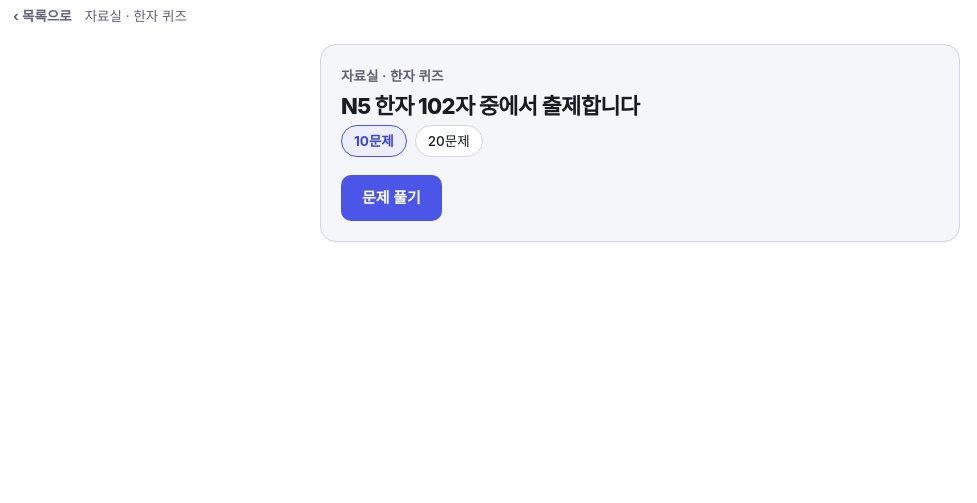
Test: 꼬리 창을 뽑아도 퀴즈가 열린다 (A-H3) › 꼬리 창을 뽑았어도 실제로 4지선다 문항이 만들어진다
Step 1. Click the button "문제 풀기" → (391, 198), box top-left (341, 176), bottom-right (442, 222)
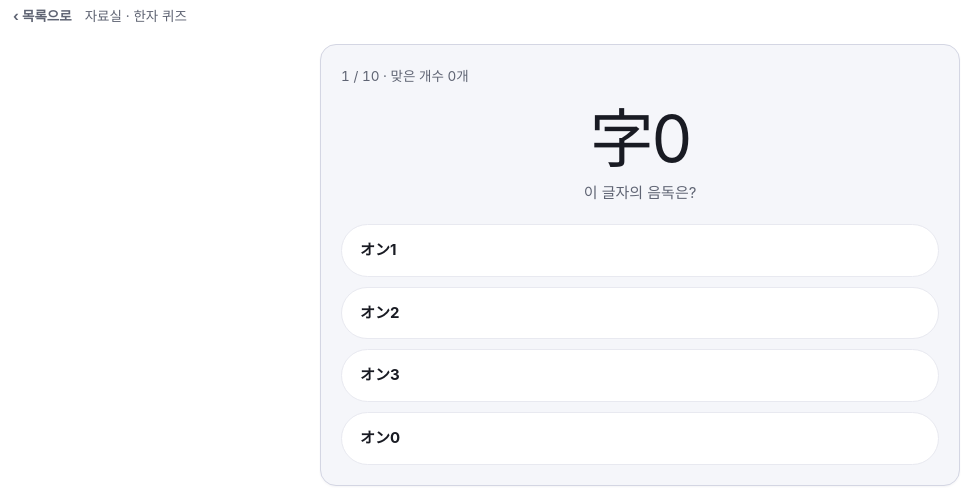
Expected: the text "1 / 10 · 맞은 개수 0개" is shown, top-left (341, 68), bottom-right (469, 84)
Expected: the number of buttons is 4, top-left (341, 224), bottom-right (939, 277); top-left (341, 287), bottom-right (939, 339); top-left (341, 349), bottom-right (939, 402); top-left (341, 412), bottom-right (939, 465)
